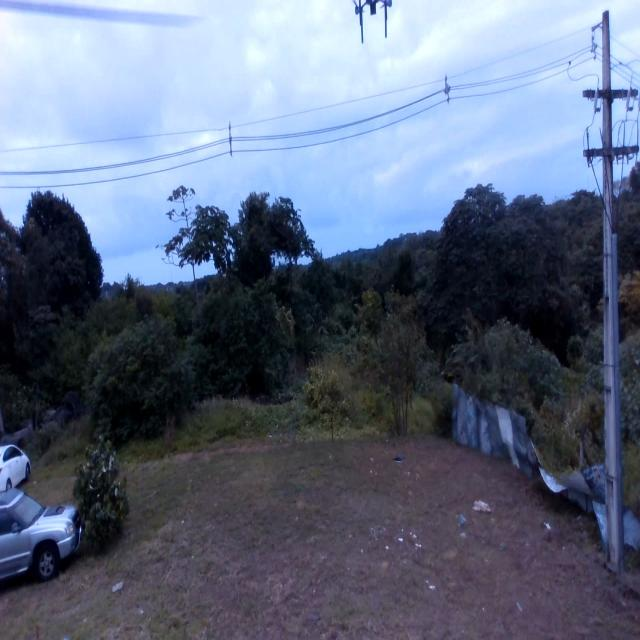-uav-: (350, 0, 397, 56)
